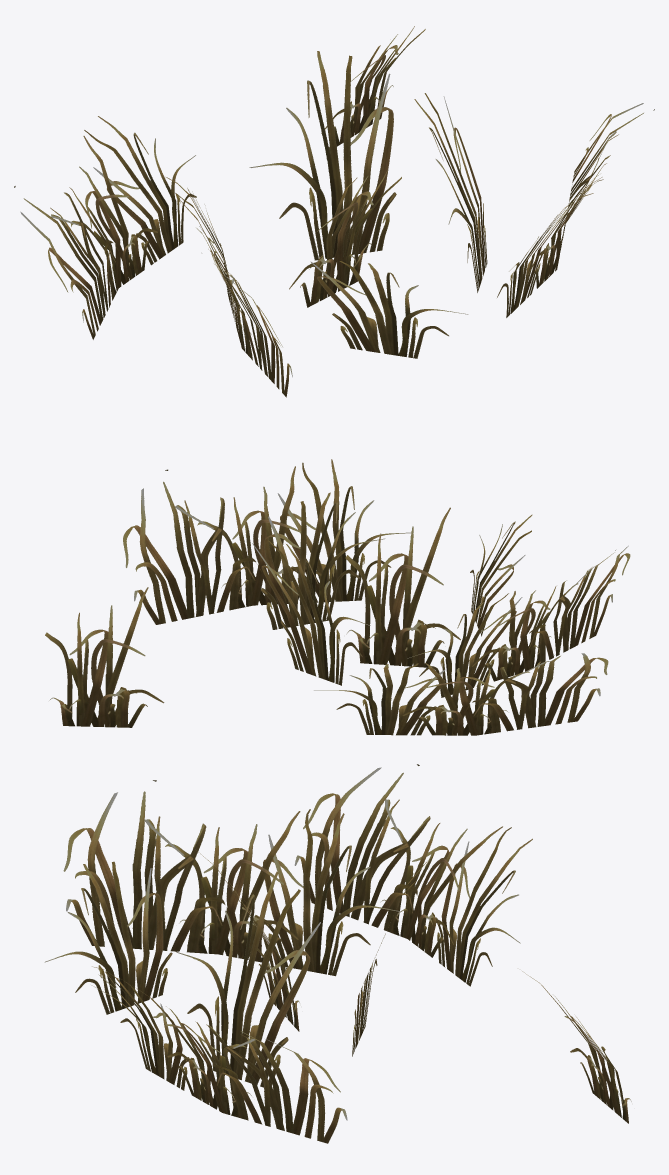
The model's file is grass_patch_L_01.fbx.
3 renders of one model, top to bottom at view 1: azimuth 30°, elevation 25°; view 2: azimuth 150°, elevation 25°; view 3: azimuth 270°, elevation 25°, orthographic. The views are drawn at different scales.
Visible parts, largest first — view 1: Grass_Plane_B0014; view 2: Grass_Plane_B0014; view 3: Grass_Plane_B0014.
Boxes of the visible parts, x1,y1,x2,y2 form: Grass_Plane_B0014: [14, 26, 654, 397]; Grass_Plane_B0014: [45, 459, 630, 735]; Grass_Plane_B0014: [44, 764, 631, 1143].
Bounding box in the file's own units: 207 × 60.82 × 184.
